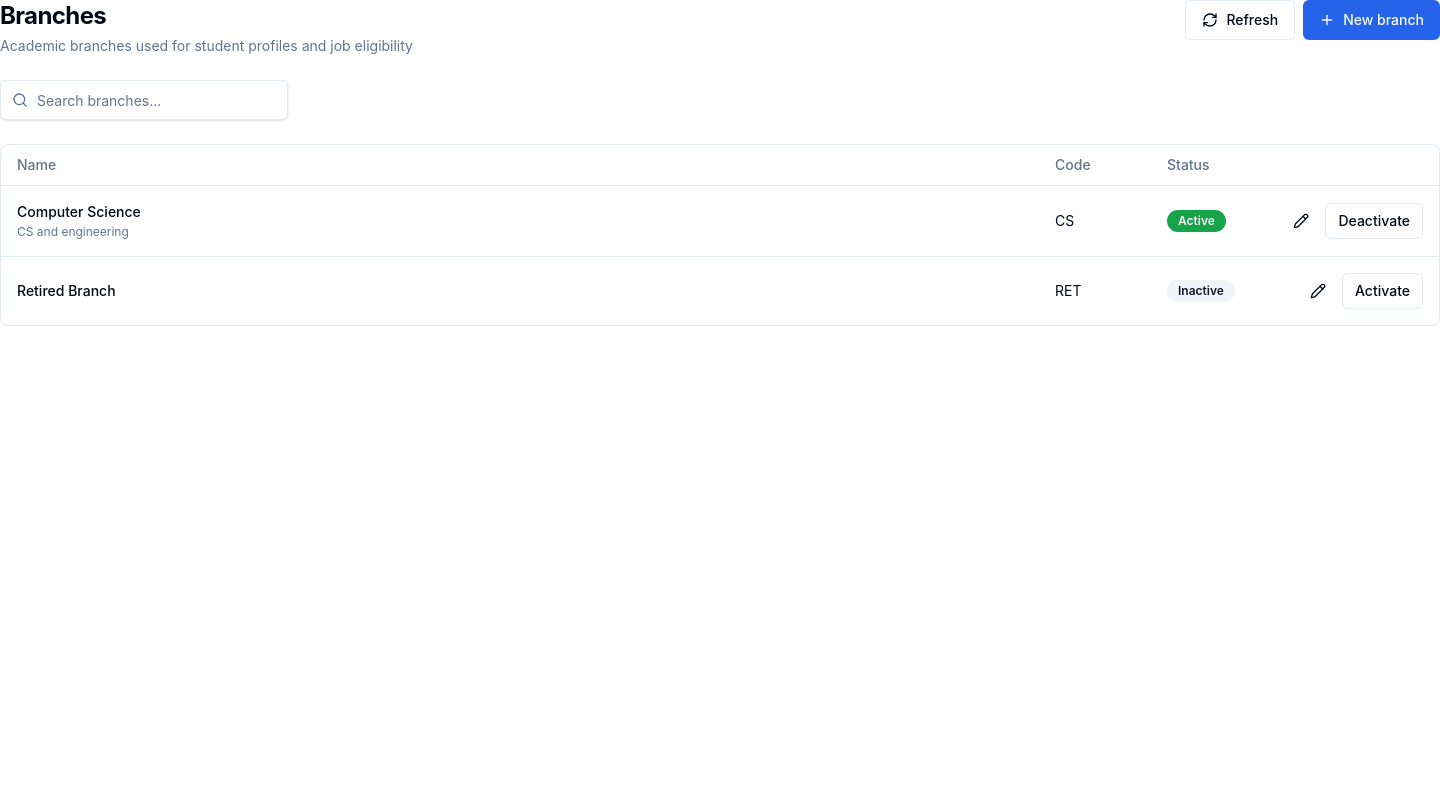
Scenario: BranchesPage › offers Activate for a deactivated branch and applies it
expect the text "Retired Branch" is shown: met, box [17,282,116,298]
Click the button "Activate" at (1382, 290), box [1342,272,1423,308]
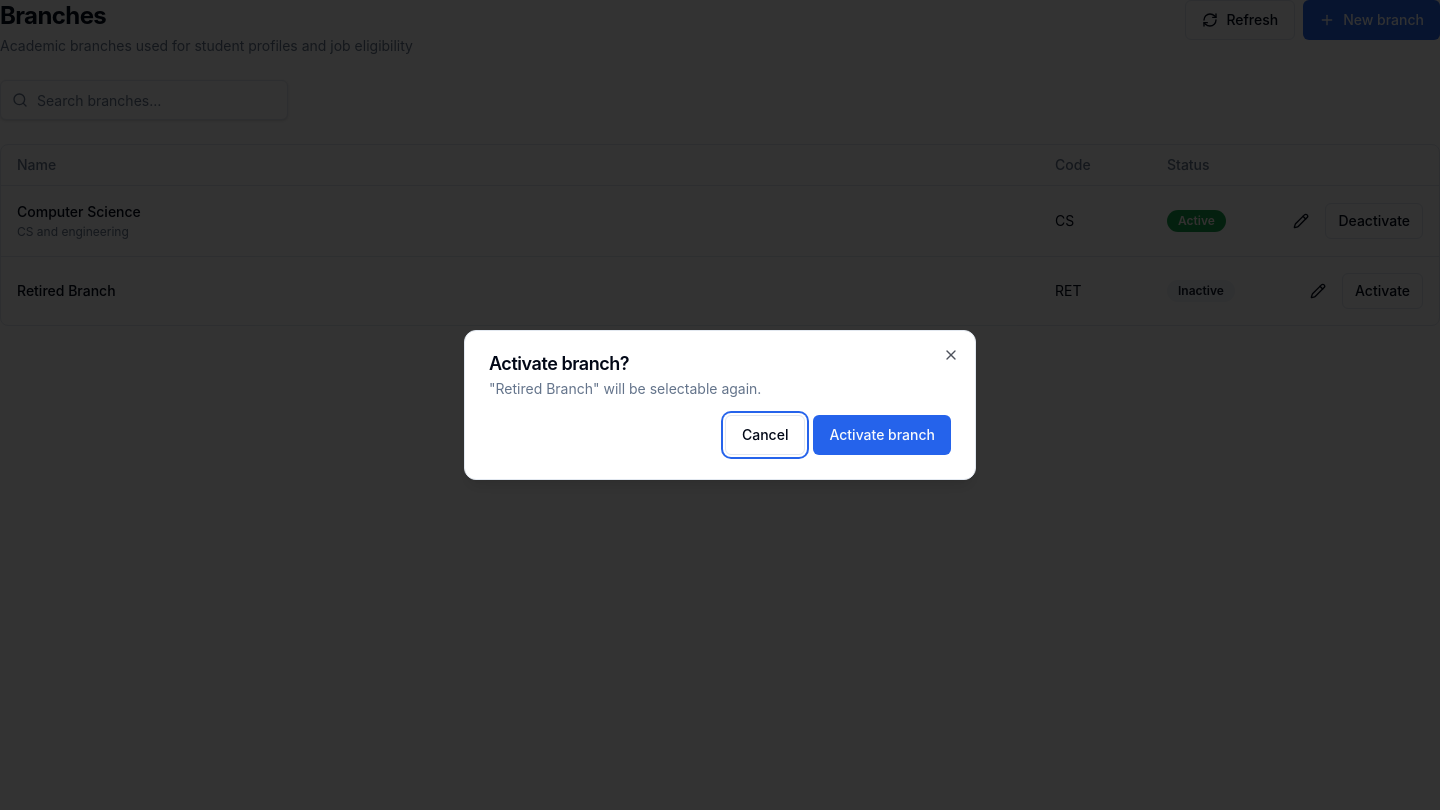
expect the heading "Activate branch?" is shown: met, box [489,353,629,374]
Click the button "Activate branch" at (882, 435), box [813,415,951,455]
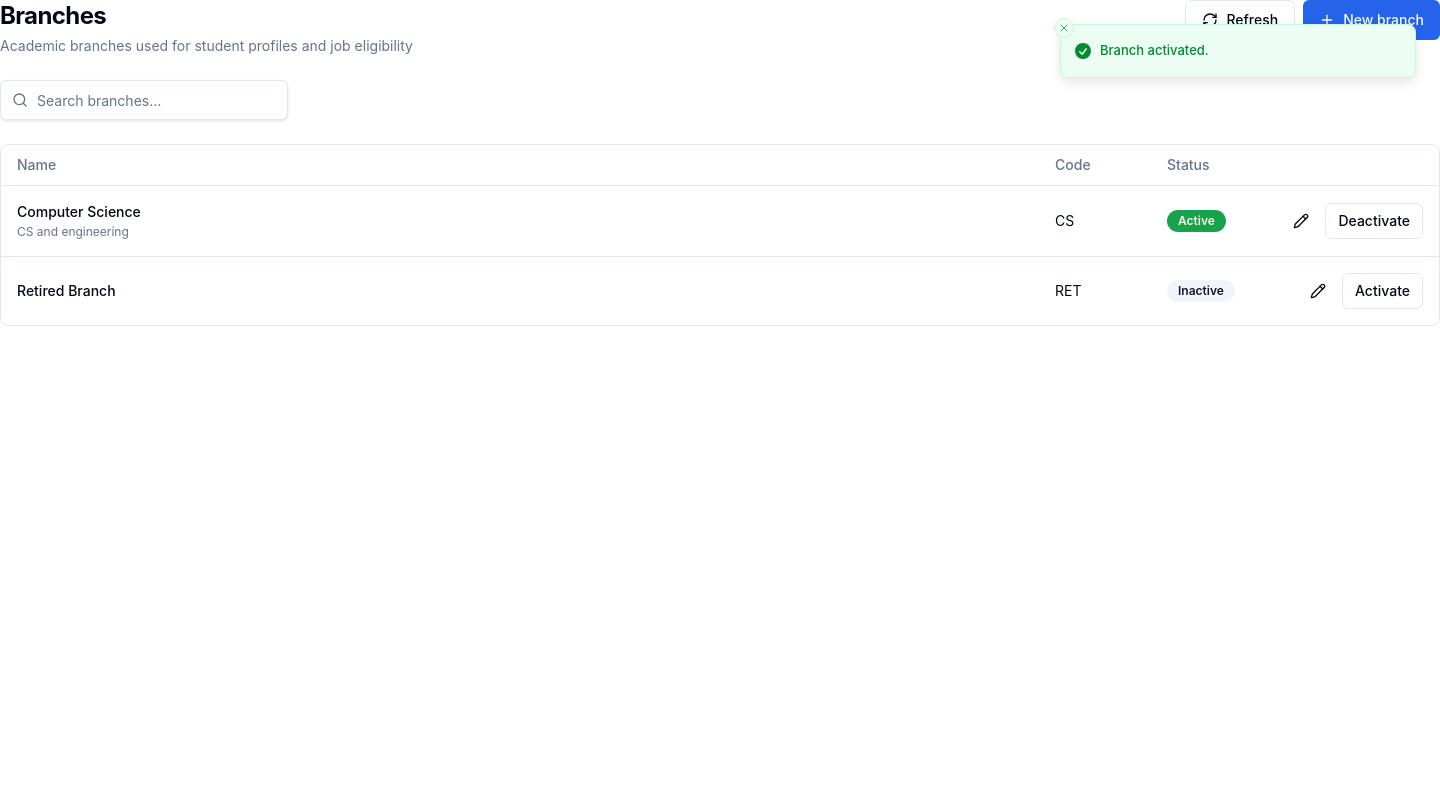
expect the text "Branch activated." is shown: met, box [1100,41,1209,60]
